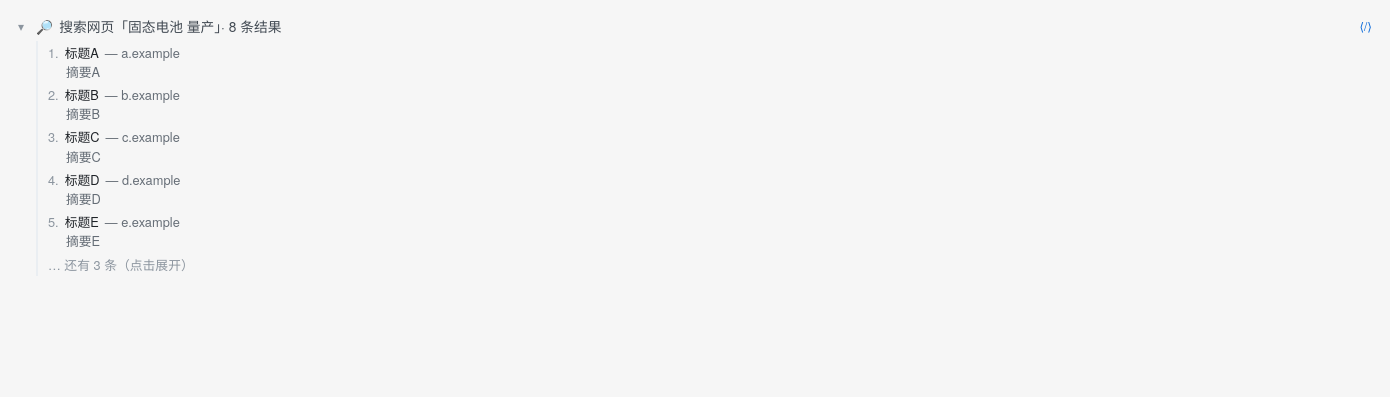
StepRow › long result lists show the first five, then 还有 N 条 reveals the rest
Check: the number of list items with test id "search-result" is 5, box top-left (48, 43), bottom-right (180, 81); top-left (48, 85), bottom-right (180, 123); top-left (48, 127), bottom-right (180, 166); top-left (48, 170), bottom-right (180, 208); top-left (48, 212), bottom-right (180, 250)
Click the button "… 还有 3 条（点击展开）" at (121, 264), box top-left (48, 254), bottom-right (194, 274)
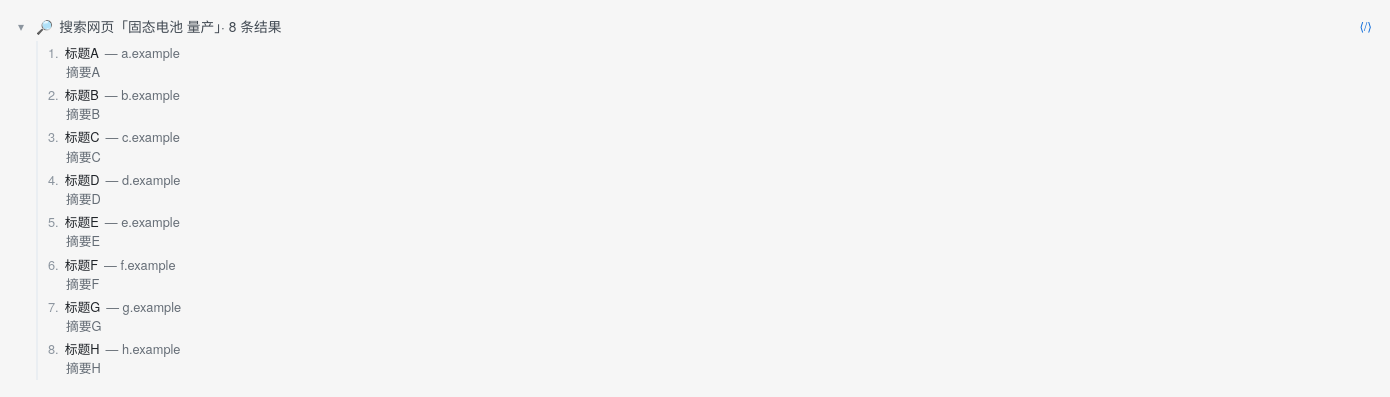
Check: the number of list items with test id "search-result" is 8
